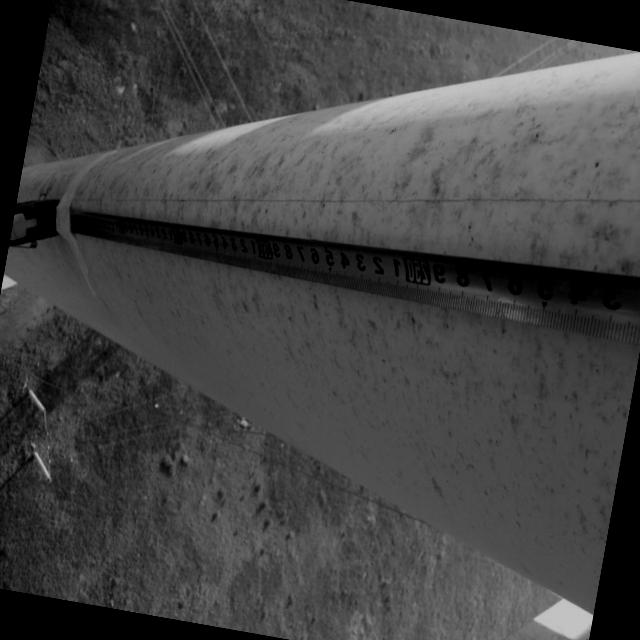crack: (361, 145, 640, 254), (121, 156, 358, 240)
